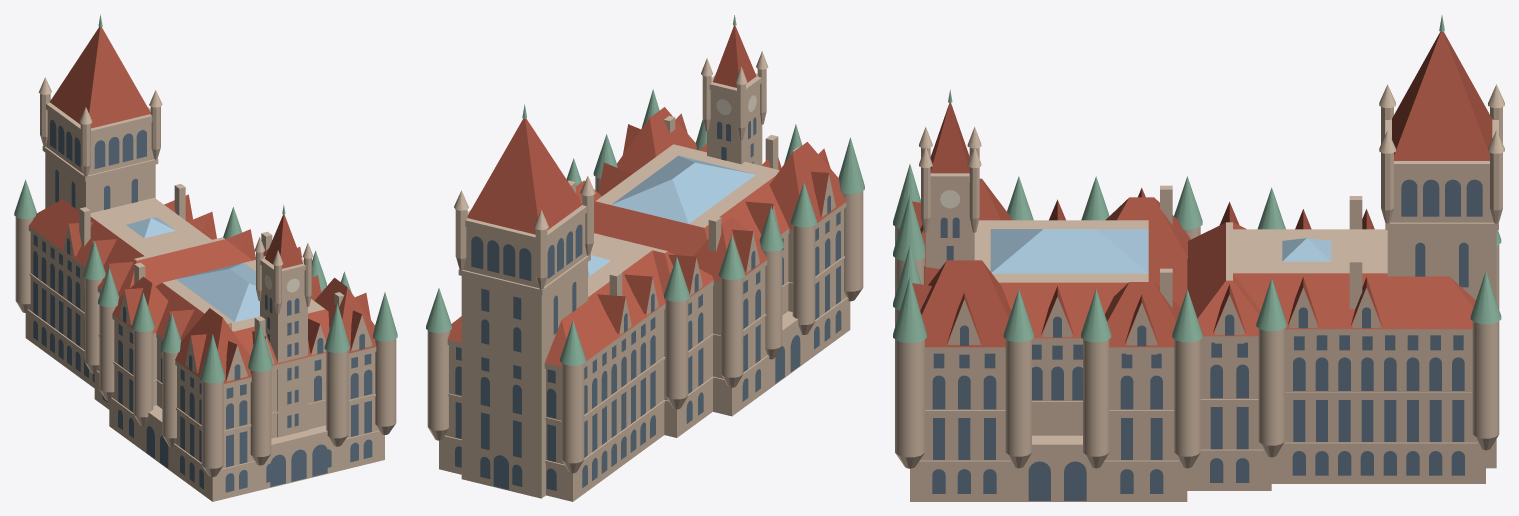
The model's file is msp-landmark-center.glb.
3 renders of one model, left to right at view 1: azimuth 30°, elevation 25°; view 2: azimuth 150°, elevation 25°; view 3: azimuth 270°, elevation 25°, orthographic. The views are drawn at different scales.
Visible parts, largest first — view 1: Landmark Center; view 2: Landmark Center; view 3: Landmark Center.
Part boxes in pixels (bbox=[...]): Landmark Center: bbox=[14, 14, 397, 501]; Landmark Center: bbox=[426, 15, 864, 501]; Landmark Center: bbox=[893, 15, 1504, 501].
Bounding box in the file's own units: 42.83 × 67.8 × 87.12.
